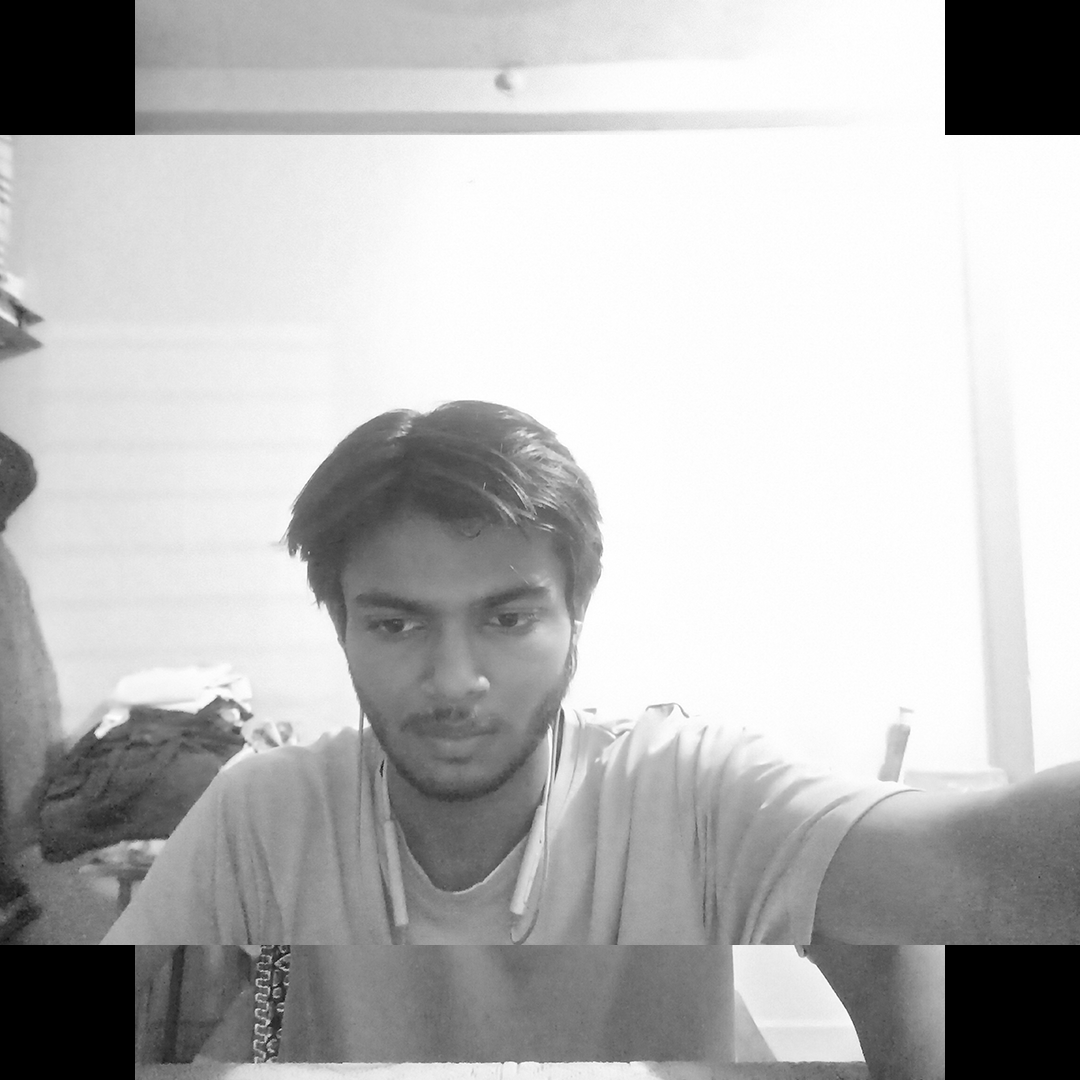Focused: (180, 241, 755, 944)
